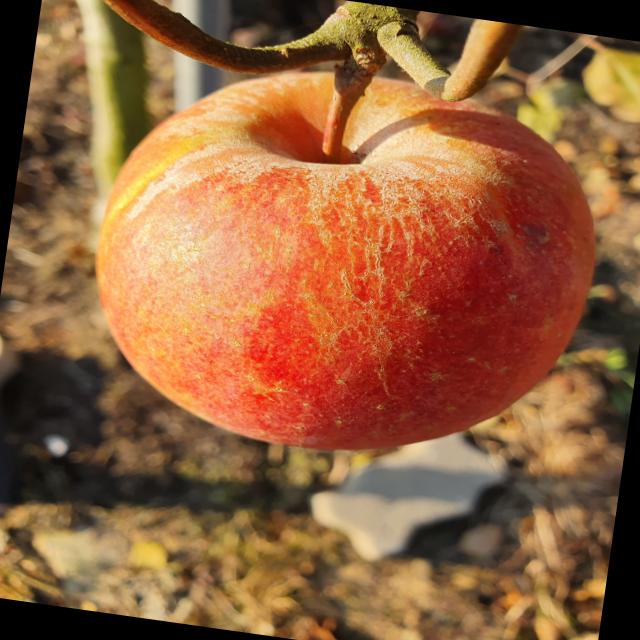fresh: (58, 22, 637, 496)
